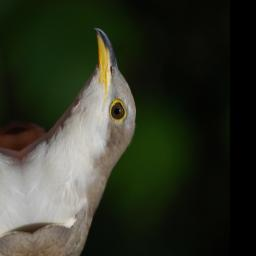Cuckoo: (3, 22, 162, 256)
